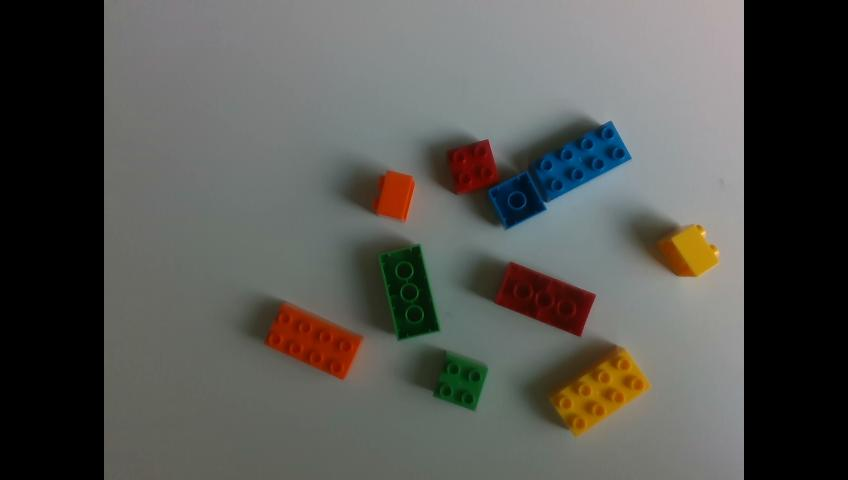2x2_blue: (483, 174, 547, 231)
2x2_green: (434, 353, 487, 410)
2x2_orange: (374, 172, 416, 224)
2x2_red: (446, 138, 499, 192)
2x2_yellow: (656, 224, 719, 275)
4x2_blue: (528, 120, 632, 202)
4x2_green: (379, 243, 440, 339)
4x2_orange: (263, 302, 363, 378)
4x2_red: (493, 260, 598, 336)
4x2_yellow: (547, 345, 651, 435)
